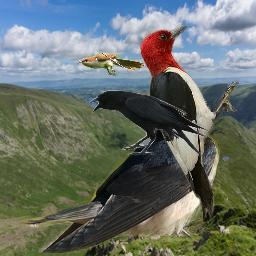Crow: (89, 90, 209, 156)
Cuckoo: (78, 53, 145, 76)
Swallow: (19, 92, 220, 253)
Woodpecker: (138, 22, 239, 220)
